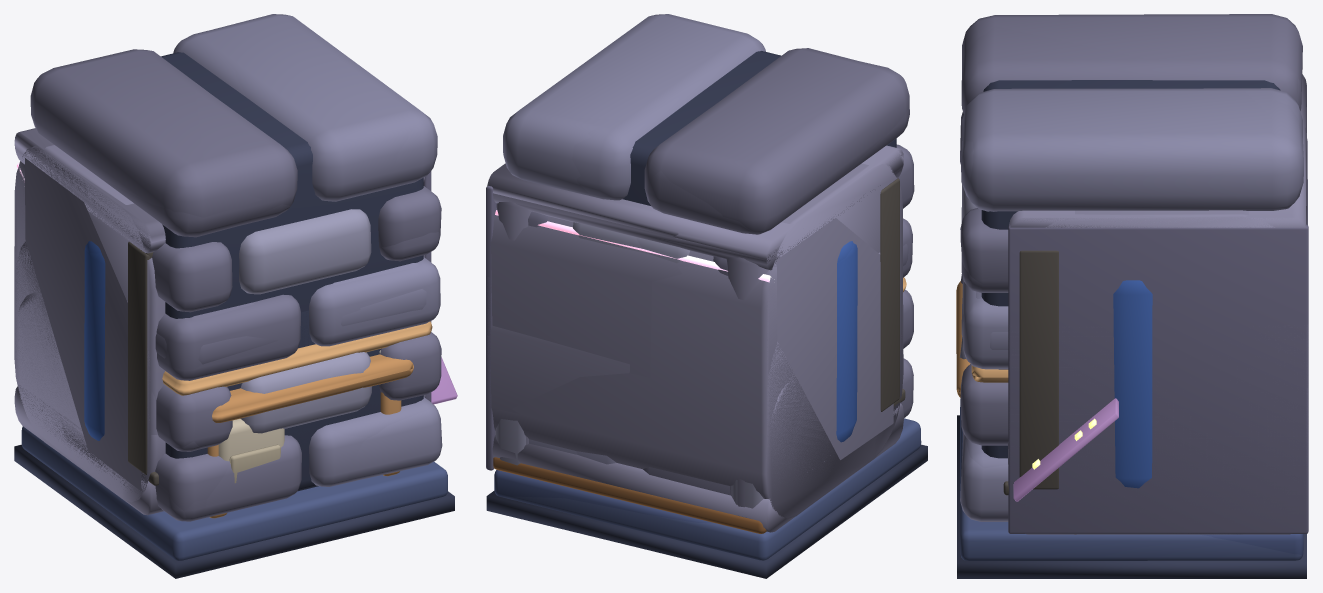
Rendered from office.glb.
3 views of the same model, side by side, from view 1: azimuth 30°, elevation 25°; view 2: azimuth 150°, elevation 25°; view 3: azimuth 270°, elevation 25° (orthographic). The views are drawn at different scales.
Parts seen in each view (by area): view 1: k_wallhi0, k_wallhi1, k_wallwin0, k_tile1, k_wallhiT0, k_wall0, k_grout, k_wall1, k_wallhiT1, k_wallwin1, k_seat, k_wallT1 (+5 smaller); view 2: k_wallhi0, k_wallhiT0, k_wallhiT1, k_wallwin0, k_wallwin1, k_wallhi1, k_wallT0, k_tile1, k_grout, k_door, k_wallT1, k_part (+3 smaller); view 3: k_wallhiT1, k_wallhi0, k_wallhi1, k_wallwin0, k_tile1, k_part1, k_grout, k_wallT1, k_wallwin1, k_wall1, k_wall0, k_wallhiT0 (+4 smaller).
Boxes of the visible parts, bbox=[...] form: k_wallhi0: bbox=[30, 14, 441, 511]; k_wallhi1: bbox=[89, 24, 441, 521]; k_wallwin0: bbox=[14, 132, 424, 515]; k_tile1: bbox=[21, 426, 447, 560]; k_wallhiT0: bbox=[14, 148, 424, 502]; k_wall0: bbox=[155, 273, 441, 521]; k_grout: bbox=[14, 444, 454, 578]; k_wall1: bbox=[184, 262, 442, 521]; k_wallhiT1: bbox=[15, 145, 431, 492]; k_wallwin1: bbox=[14, 128, 457, 514]; k_seat: bbox=[207, 350, 413, 518]; k_wallT1: bbox=[14, 241, 429, 498]; k_wallhi0: bbox=[503, 14, 914, 396]; k_wallhiT0: bbox=[492, 163, 903, 517]; k_wallhiT1: bbox=[486, 163, 902, 518]; k_wallwin0: bbox=[487, 145, 905, 532]; k_wallwin1: bbox=[492, 150, 903, 532]; k_wallhi1: bbox=[543, 48, 913, 464]; k_wallT0: bbox=[490, 253, 902, 518]; k_tile1: bbox=[494, 418, 921, 560]; k_grout: bbox=[486, 444, 927, 578]; k_door: bbox=[493, 419, 766, 533]; k_wallT1: bbox=[486, 252, 899, 511]; k_part: bbox=[836, 243, 857, 442]; k_wallhiT1: bbox=[1008, 199, 1308, 534]; k_wallhi0: bbox=[959, 14, 1303, 468]; k_wallhi1: bbox=[961, 26, 1302, 431]; k_wallwin0: bbox=[1003, 107, 1306, 534]; k_tile1: bbox=[960, 399, 1301, 560]; k_part1: bbox=[1113, 280, 1152, 488]; k_grout: bbox=[957, 415, 1306, 578]; k_wallT1: bbox=[1008, 324, 1308, 534]; k_wallwin1: bbox=[1013, 74, 1306, 534]; k_wall1: bbox=[960, 207, 1008, 521]; k_wall0: bbox=[960, 290, 1008, 458]; k_wallhiT0: bbox=[1046, 139, 1307, 227].
Size of the model in its own units: 1.12 by 1.36 by 1.01.
